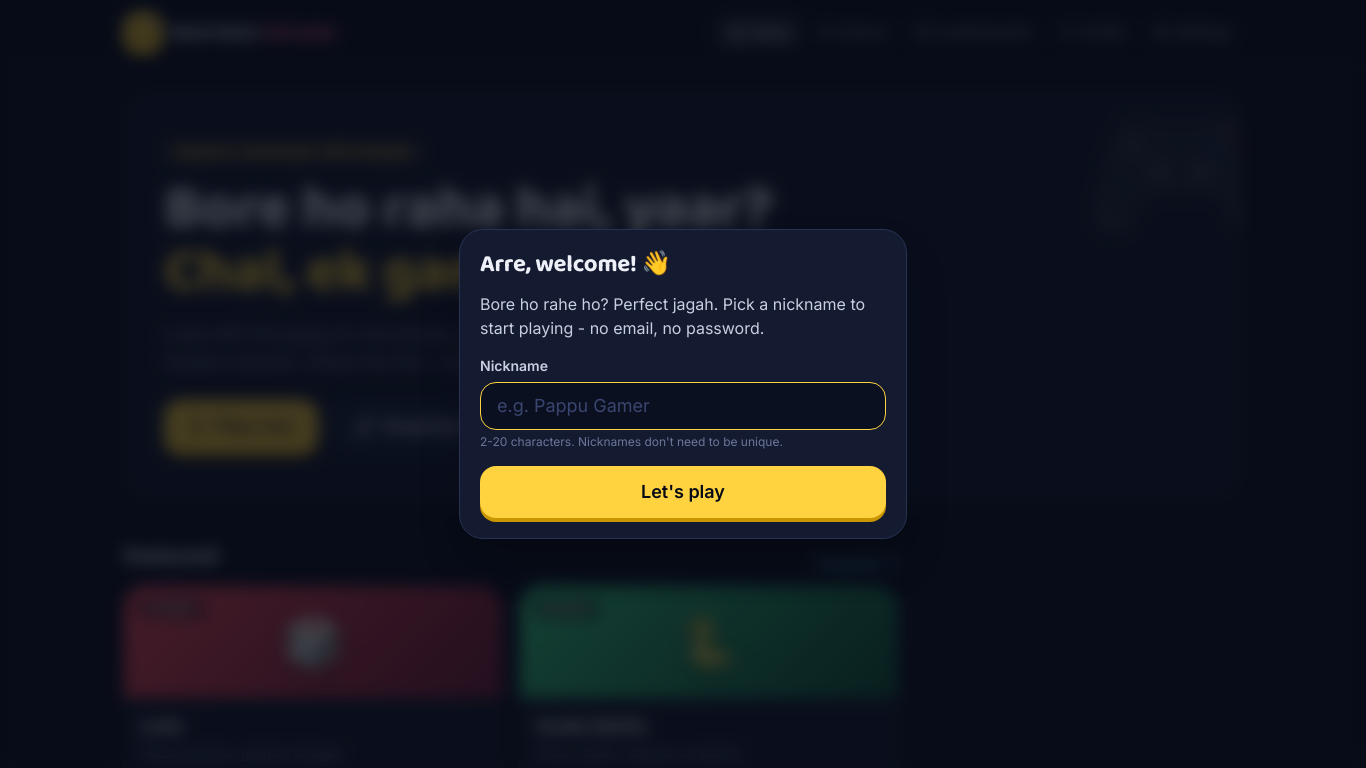
Test: player onboarding › rejects invalid nicknames
In the field labelled "Nickname": (683, 406) [480,382,886,430], type "x"
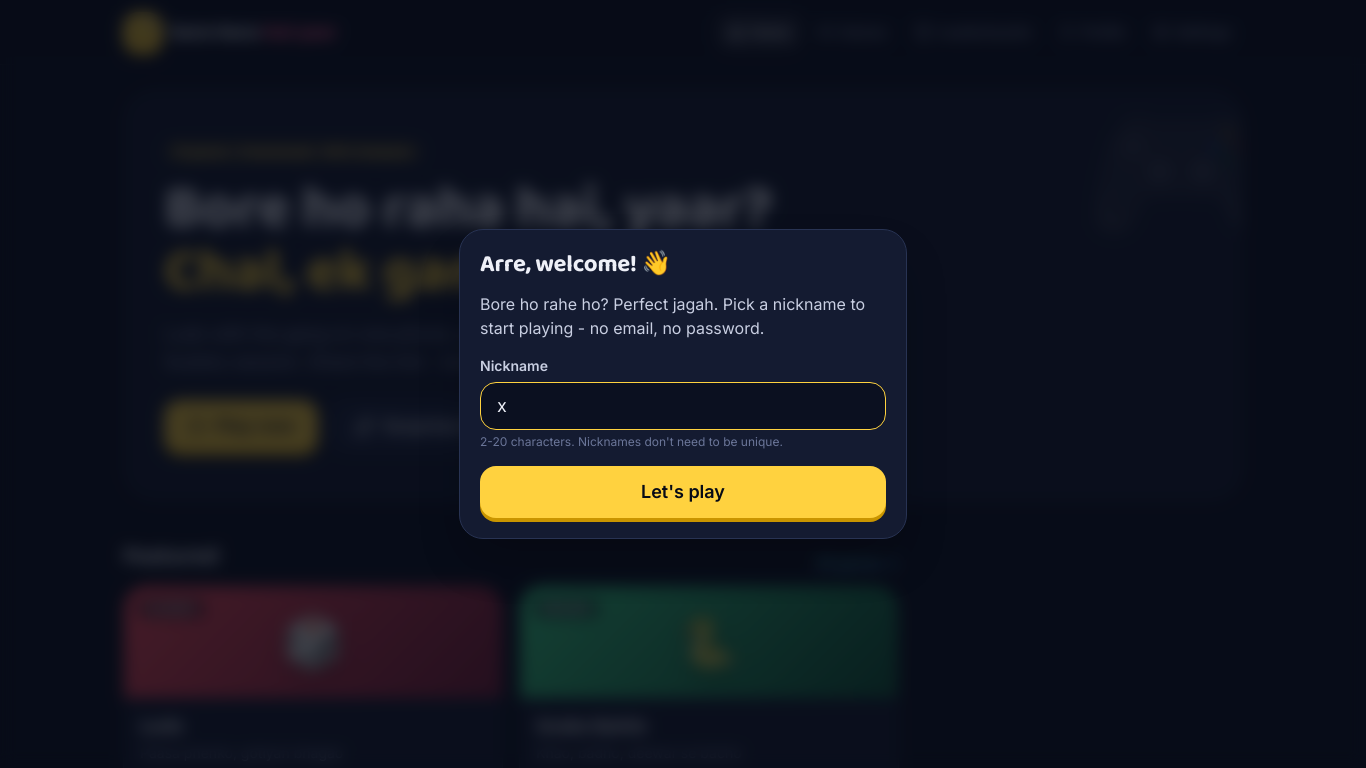
Click the button "Let's play": (683, 492) [480,466,886,518]
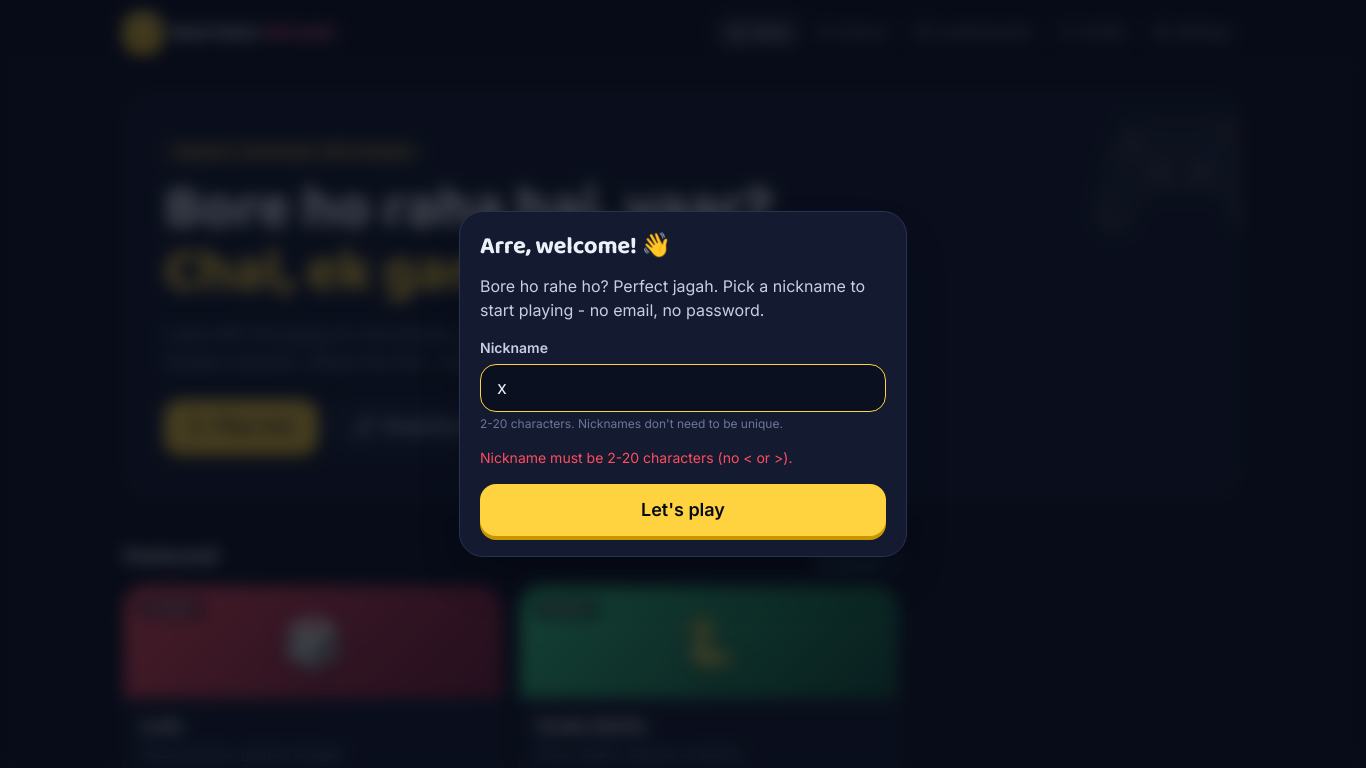
Check: the message shows "2-20", box [480,449,792,466]
